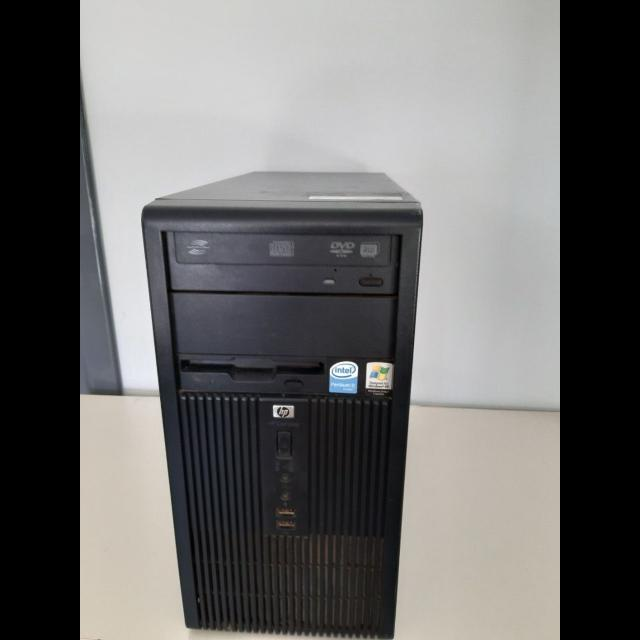Desktop-PC: (143, 112, 423, 640)
